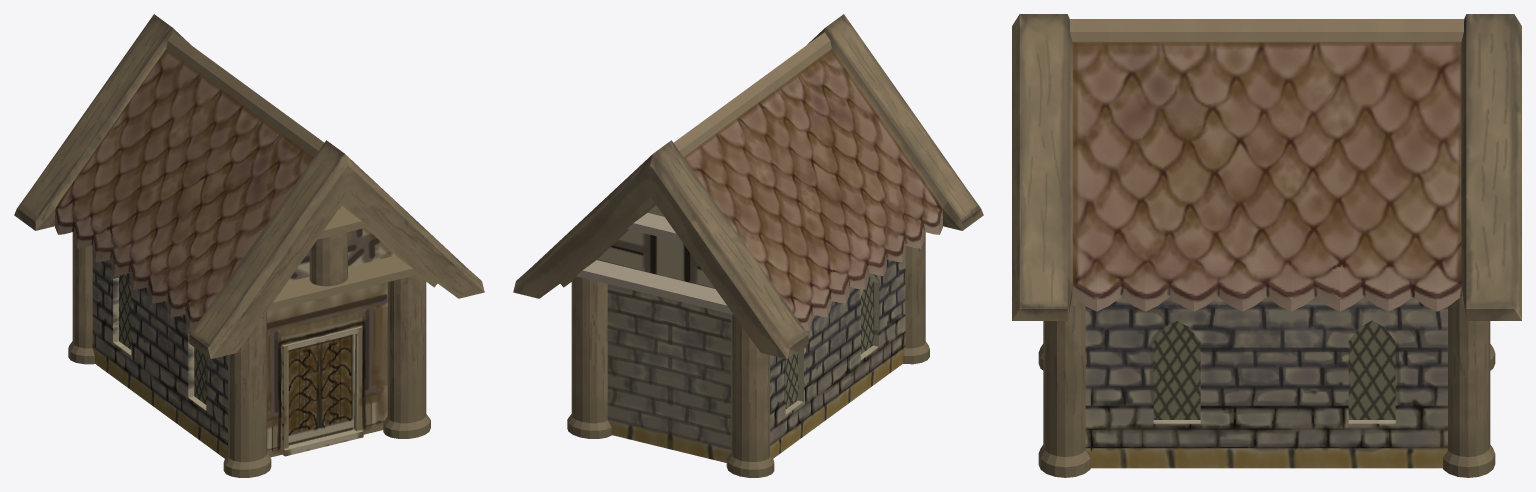
File: house01.fbx
The picture shows the model from 3 angles, left to right: view 1: azimuth 30°, elevation 25°; view 2: azimuth 150°, elevation 25°; view 3: azimuth 270°, elevation 25°; orthographic projection. The views are drawn at different scales.
Visible parts, largest first — view 1: Cube; view 2: Cube; view 3: Cube.
Boxes of the visible parts, x1=… form: Cube: x1=14, y1=14, x2=484, y2=477; Cube: x1=513, y1=14, x2=983, y2=477; Cube: x1=1012, y1=14, x2=1521, y2=477.
Size of the model in its own units: 5 by 5.38 by 6.21.
1 material, 1 textured.
